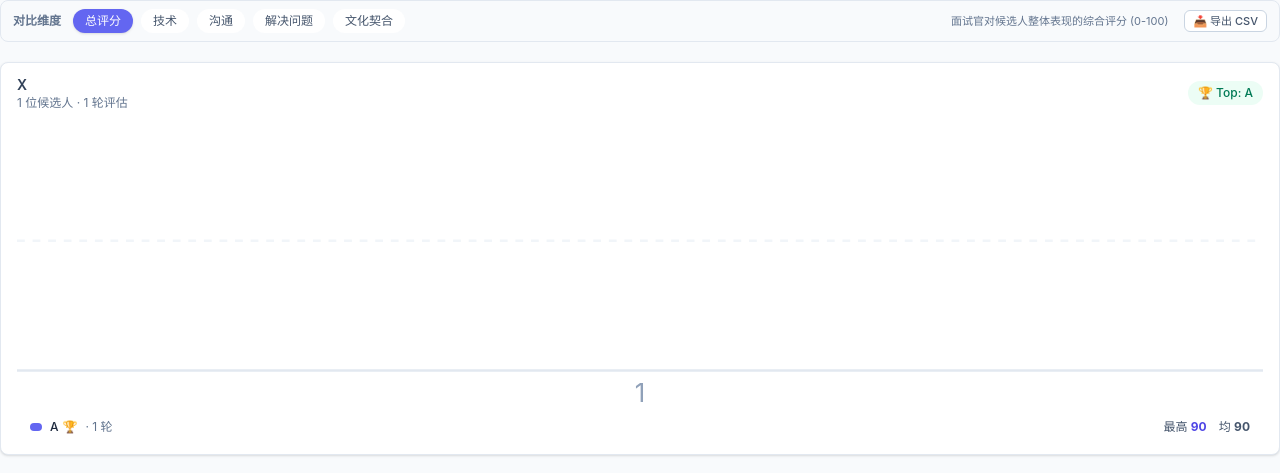
Test case: ComparisonMatrix — metric switcher › hides per-row best/avg chips when the selected metric has no evaluations for that candidate
This screenshot has width=1280, height=473.
Expected: the element with test id "comparison-best-ct_a" shows "90", [1191,419,1207,434]
# Switch to technical — A has no technical score, so no chip
Click the radio button with test id "comparison-metric-technical": {"x": 165, "y": 21} [141,9,189,33]
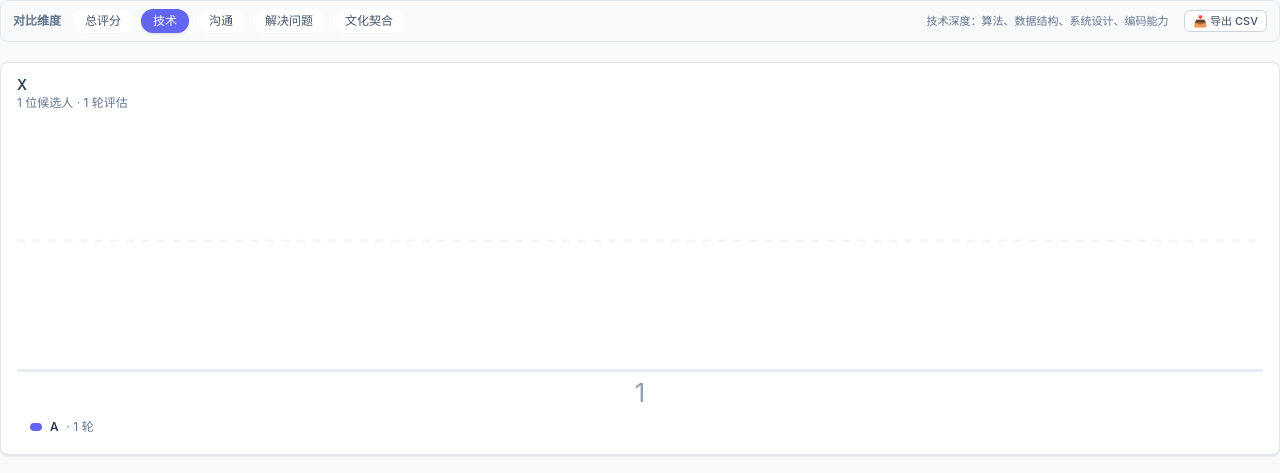
Now the element with test id "comparison-best-ct_a" is gone
